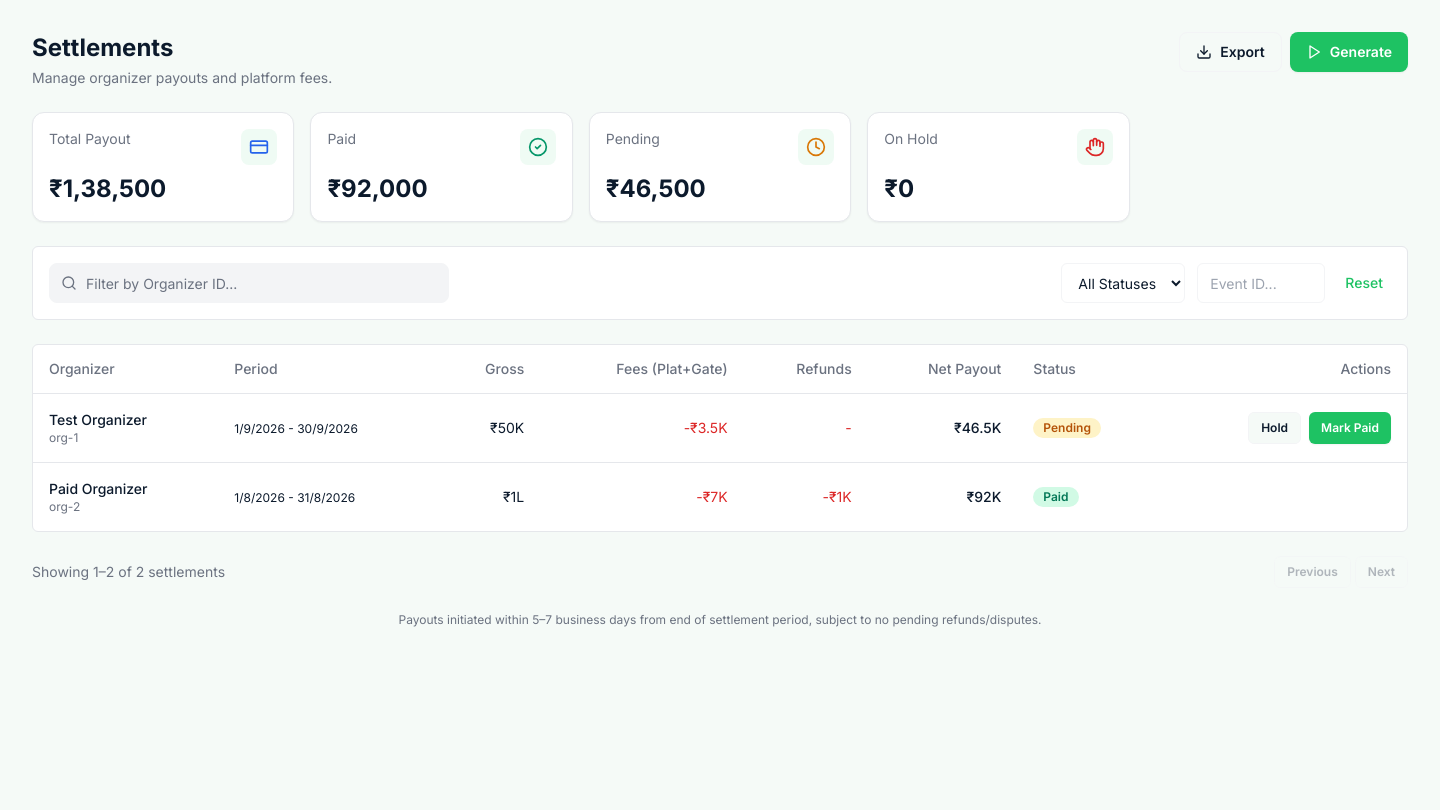
Settlements Module › handles hold flow requiring a reason
# Open hold dialog for pending settlement
Click the button "Hold": [1275, 428] box [1248,412,1301,444]
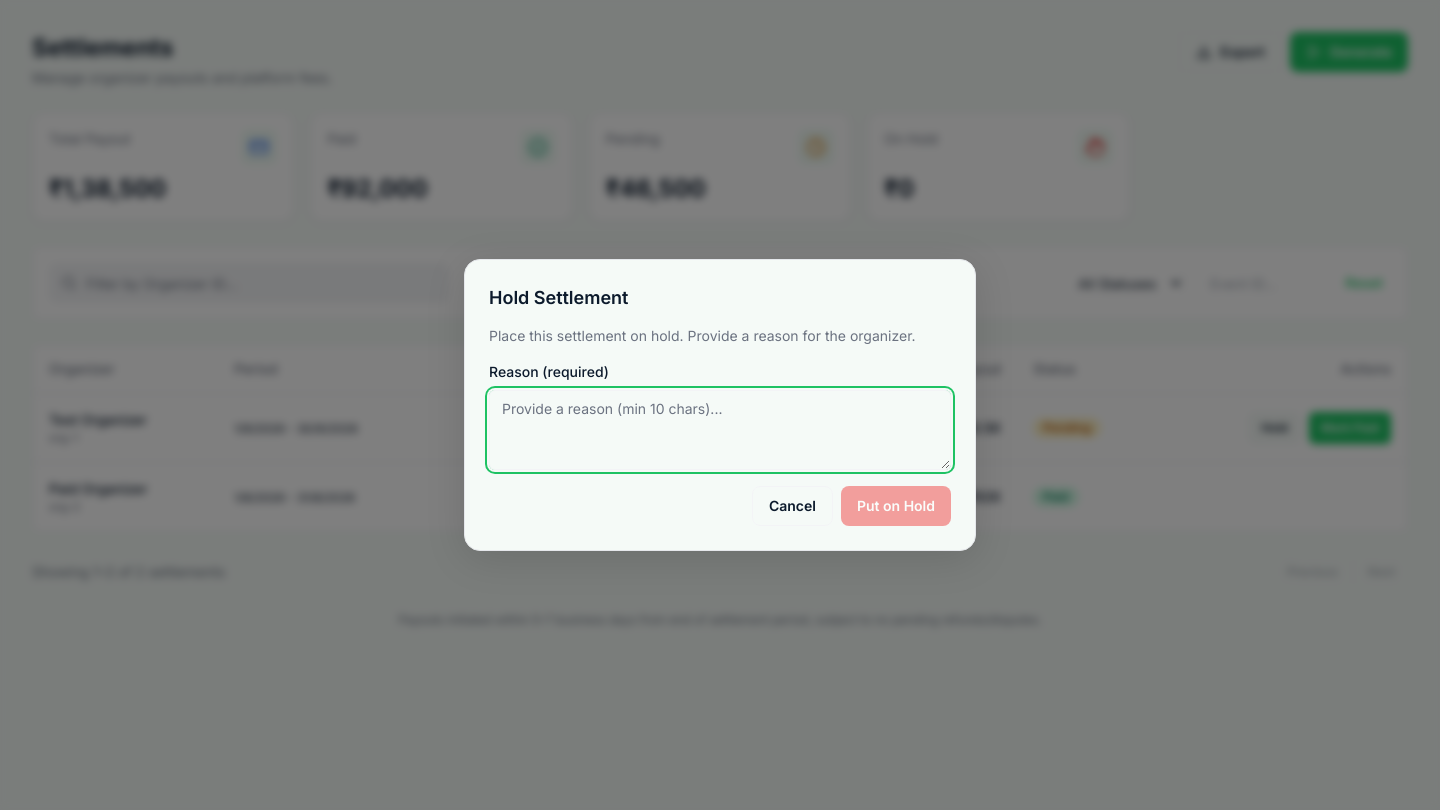
Now the heading "Hold Settlement" is shown, box [489,287,628,308]
Now the button "Put on Hold" is disabled, box [841,486,951,526]
In the text box with placeholder "Provide a reason (min 10 chars)...": [720, 430] box [489,390,951,470], type "High chargeback risk"
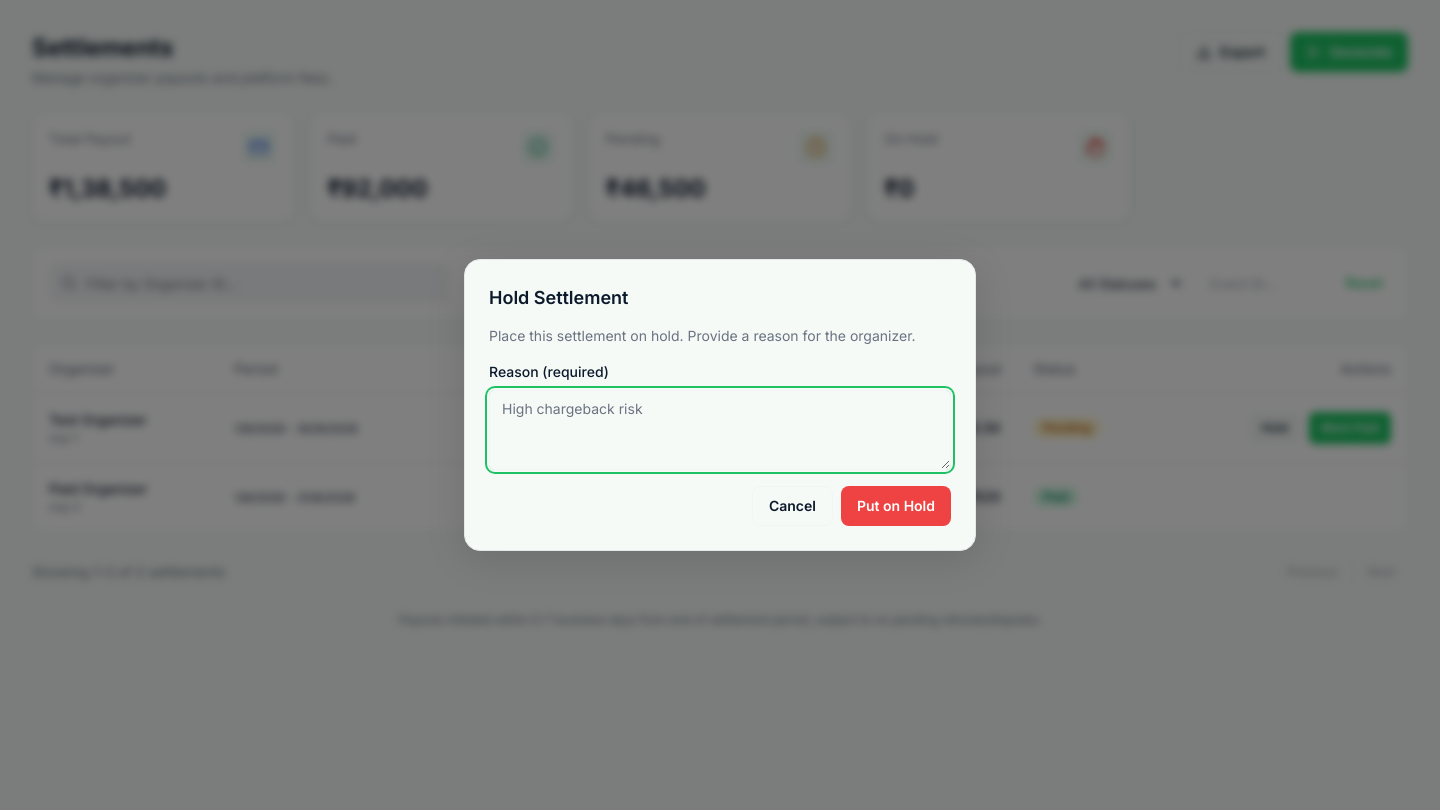
Now the button "Put on Hold" is enabled
Click the button "Put on Hold": [896, 506] box [841,486,951,526]
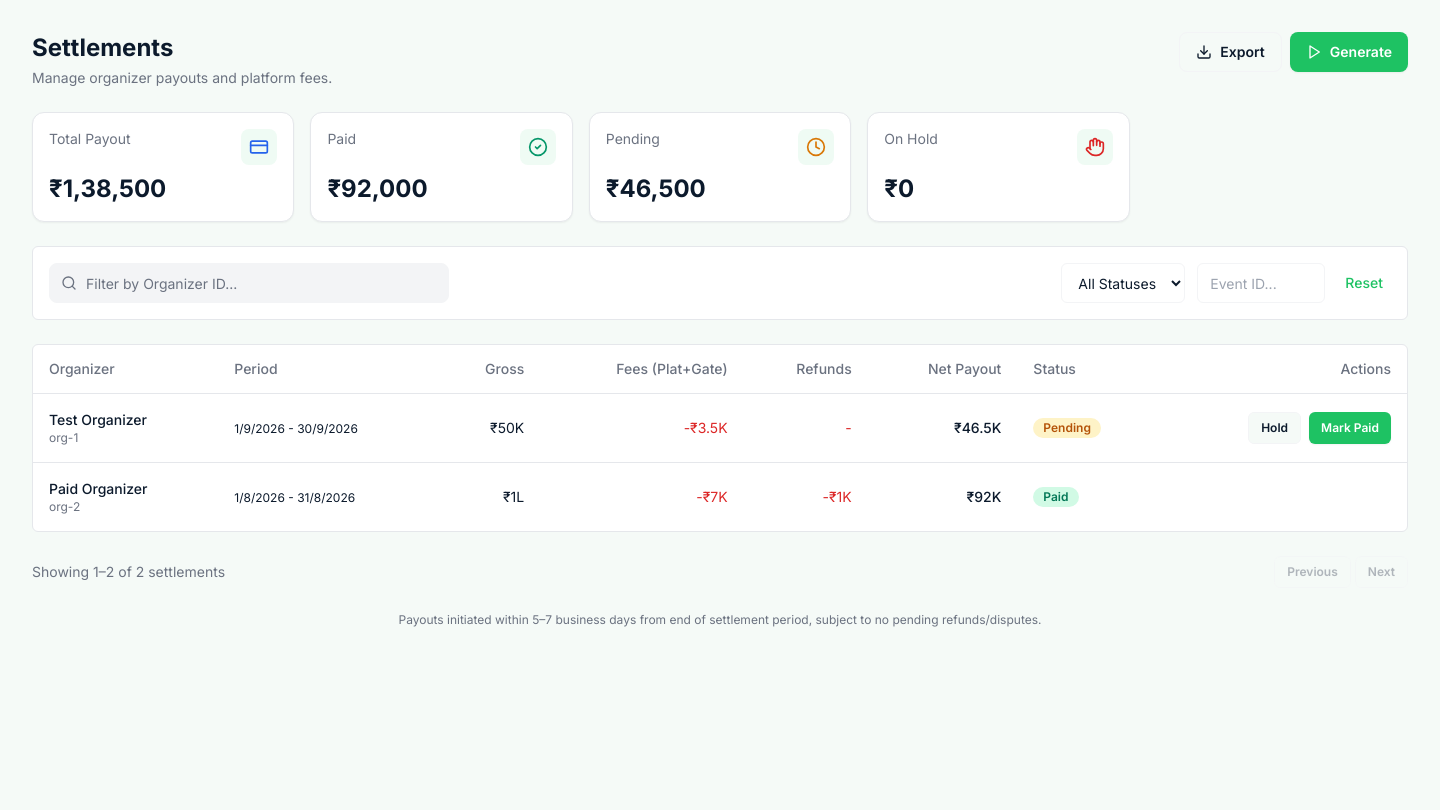
Now the heading "Hold Settlement" is gone
